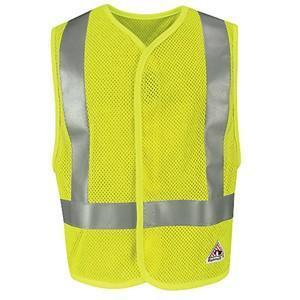vest: (49, 2, 242, 292)
